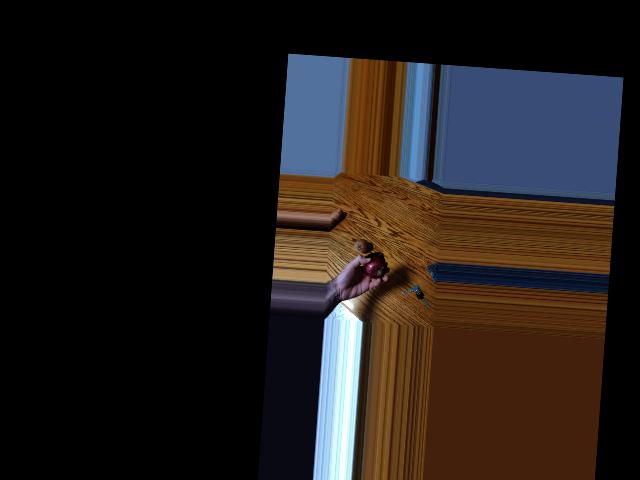onion: (351, 236, 368, 254)
